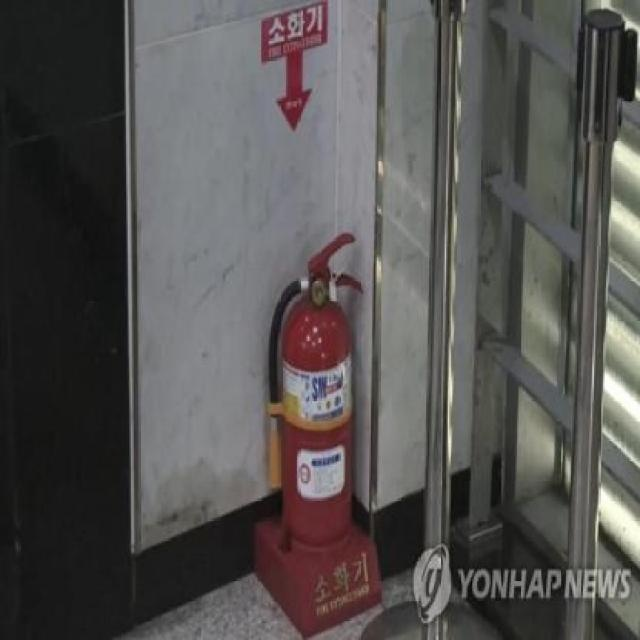fire extinguisher: (267, 232, 364, 545)
